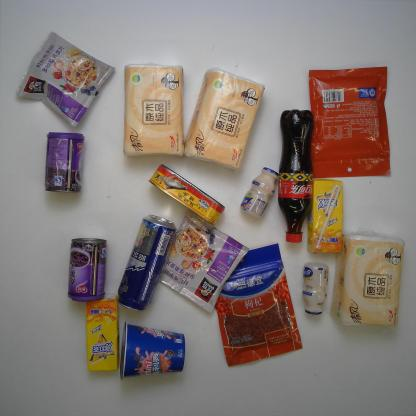Alcohol: (117, 214, 177, 312)
Canned Food: (148, 164, 226, 225), (67, 238, 107, 302), (44, 132, 85, 192)
Dessert: (119, 321, 186, 381)
Dried Fruit: (214, 243, 303, 367), (308, 66, 391, 179)
Drink: (278, 109, 314, 243), (306, 178, 344, 256), (85, 294, 120, 372)
Instant Drink: (14, 31, 116, 128), (159, 208, 249, 314)
Milk: (240, 167, 279, 218), (301, 262, 329, 314)
Tissue: (184, 67, 266, 170), (329, 233, 405, 328), (123, 63, 185, 158)
